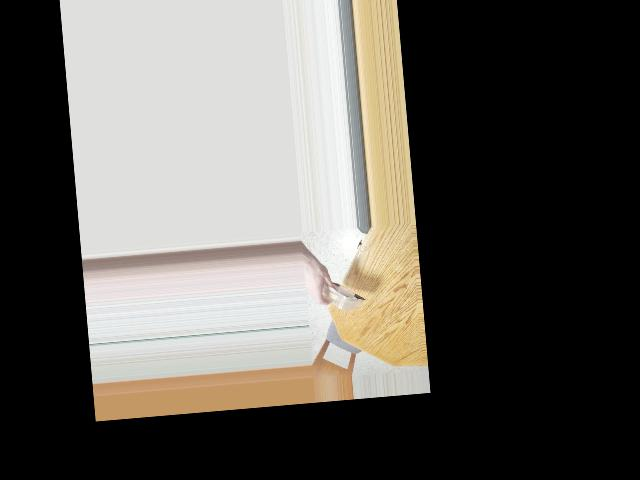cheese: (310, 263, 357, 324)
